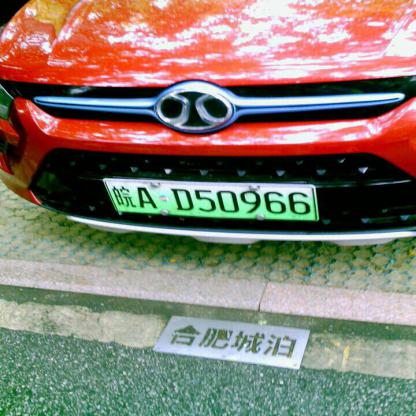lp: (103, 180, 317, 220)
